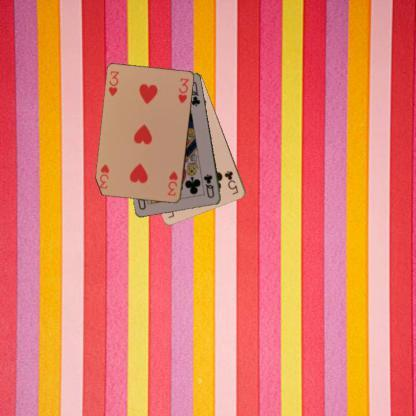3h: (165, 168, 179, 198), (106, 69, 120, 98)
5c: (222, 168, 240, 196)
Qc: (201, 172, 216, 200)
